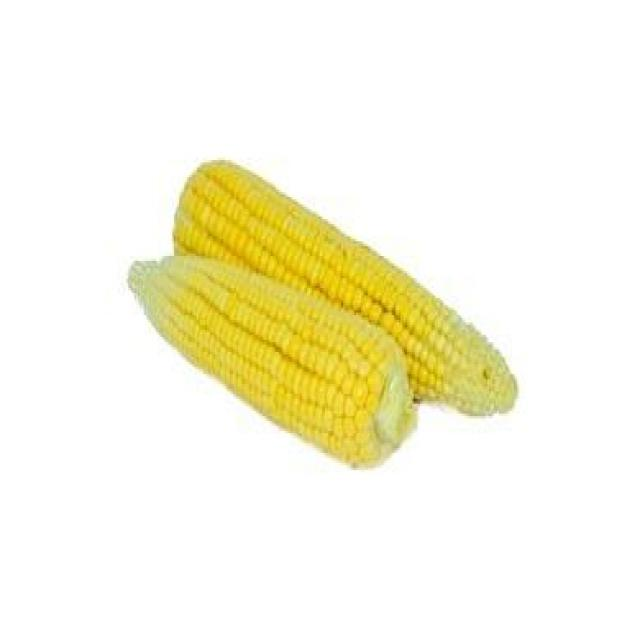Corn ear: (135, 254, 397, 460), (400, 287, 519, 425), (175, 151, 303, 278), (306, 226, 394, 293)
